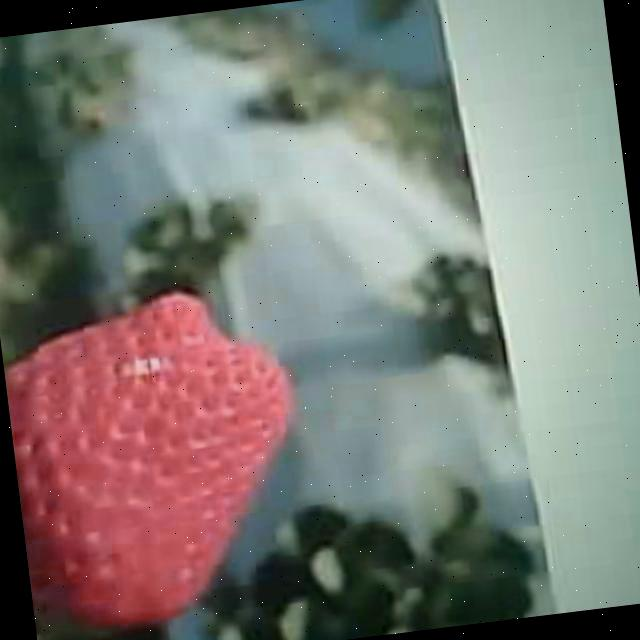ripe: (0, 278, 311, 639)
